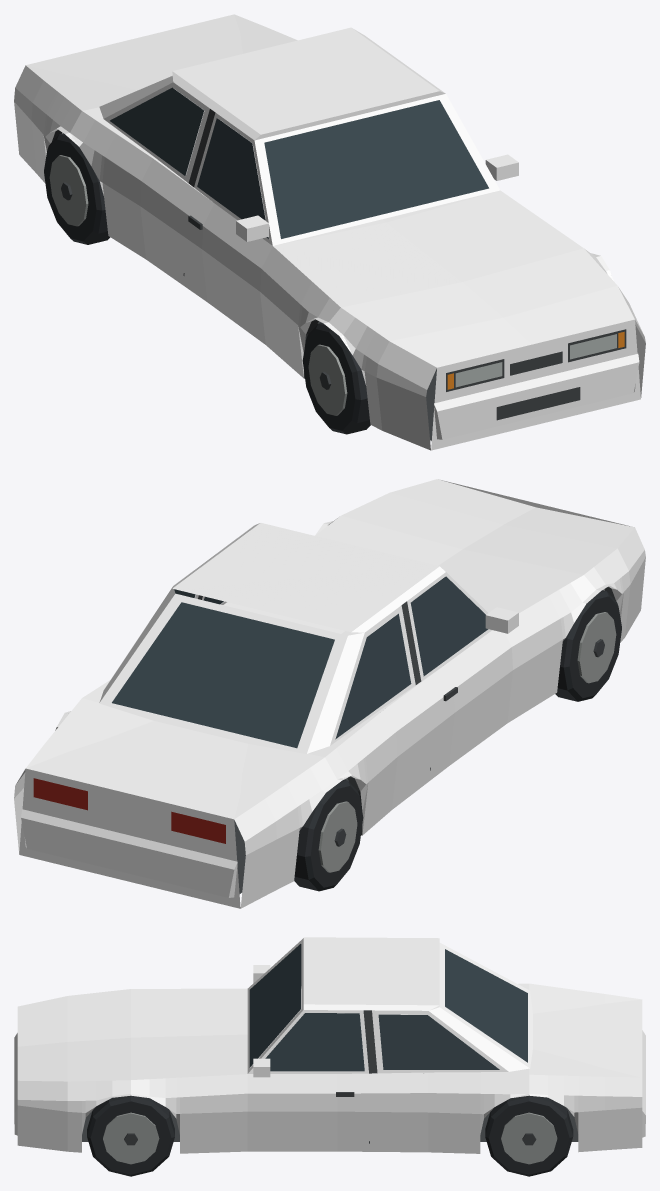
The model's file is hayase_enju_sr_99.glb.
3 renders of one model, top to bottom at view 1: azimuth 30°, elevation 25°; view 2: azimuth 150°, elevation 25°; view 3: azimuth 270°, elevation 25°, orthographic. The views are drawn at different scales.
Visible parts, largest first — view 1: hayase_enju_sr_99; view 2: hayase_enju_sr_99; view 3: hayase_enju_sr_99.
Part boxes in pixels (x1,y1,x2,y2): hayase_enju_sr_99: (14,14,645,450); hayase_enju_sr_99: (14,479,645,908); hayase_enju_sr_99: (14,937,645,1176).
Size of the model in its own units: 1.75 by 1.23 by 4.49.
Materials: 8 (1 with a texture image).
